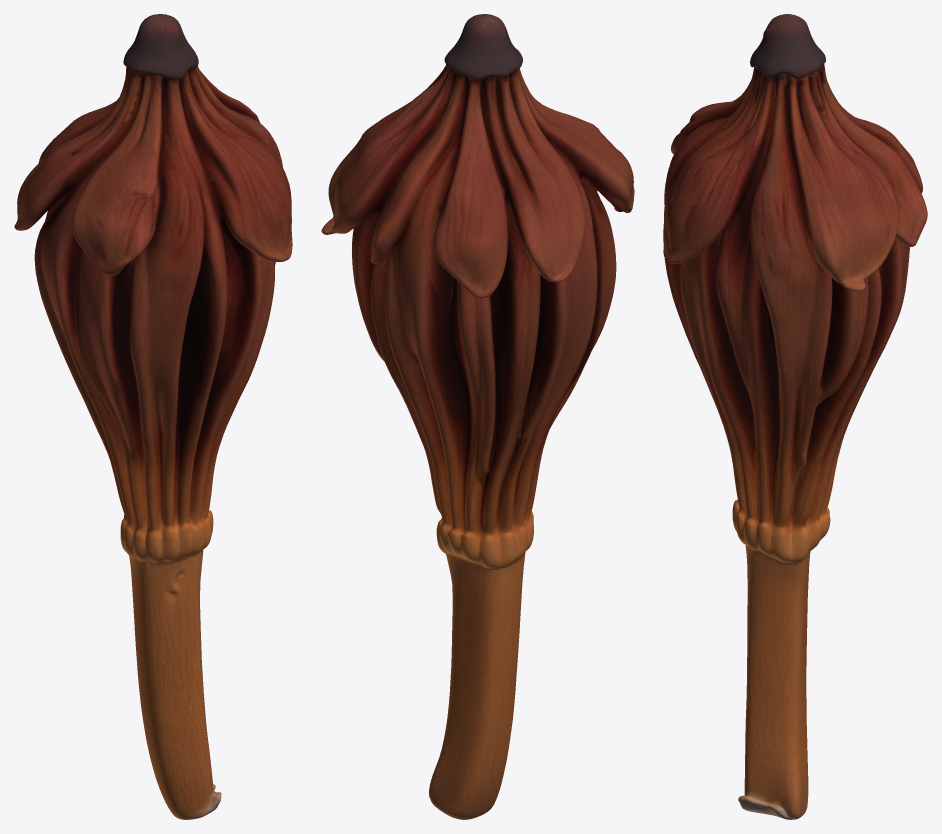
The model's file is dingxiang.glb.
The picture shows the model from 3 angles, left to right: view 1: azimuth 30°, elevation 25°; view 2: azimuth 150°, elevation 25°; view 3: azimuth 270°, elevation 25°; orthographic projection. The views are drawn at different scales.
Parts seen in each view (by area): view 1: material; view 2: material; view 3: material.
Boxes of the visible parts, x1,y1,x2,y2 form: material: [14, 14, 292, 819]; material: [321, 14, 634, 819]; material: [663, 14, 927, 819].
Size of the model in its own units: 0.386 by 1.2 by 0.3626.
Materials: 1 (1 with a texture image).
